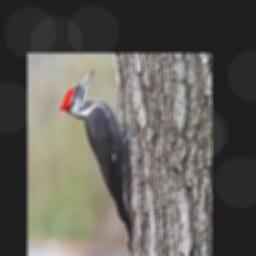Woodpecker: (58, 68, 136, 248)
